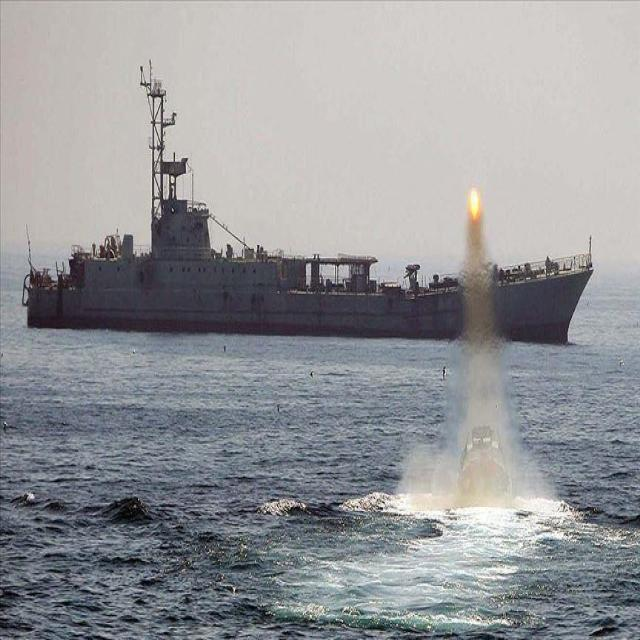navalvessels: (18, 83, 594, 362)
